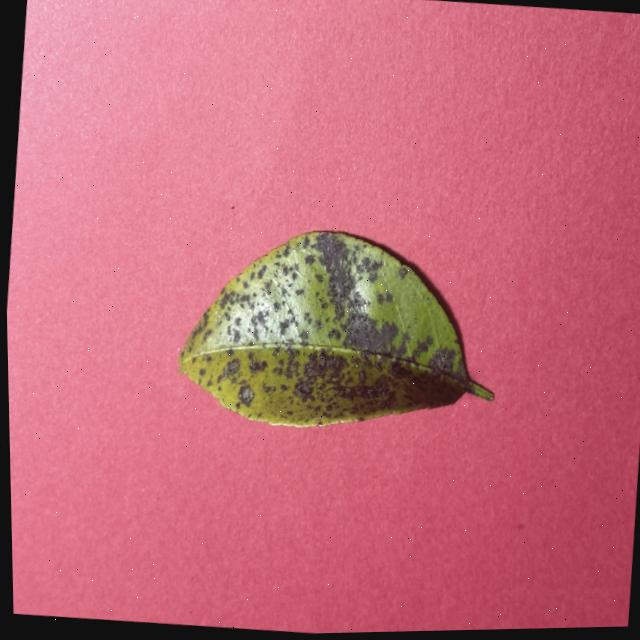sooty_mold: (178, 230, 493, 425)
